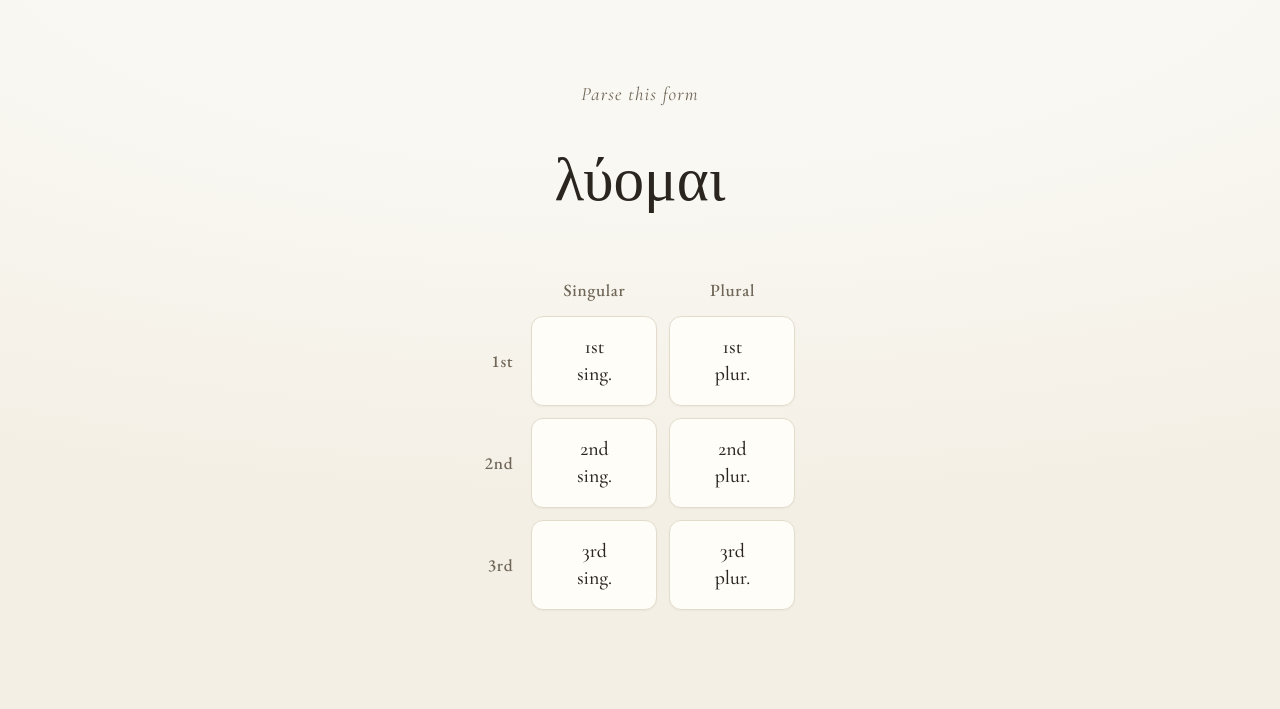
Scenario: PersonNumberParseGame › logs nothing when the answer is right
Click the 1st button with class "cell".
click(594, 361)  # box [532, 316, 658, 406]
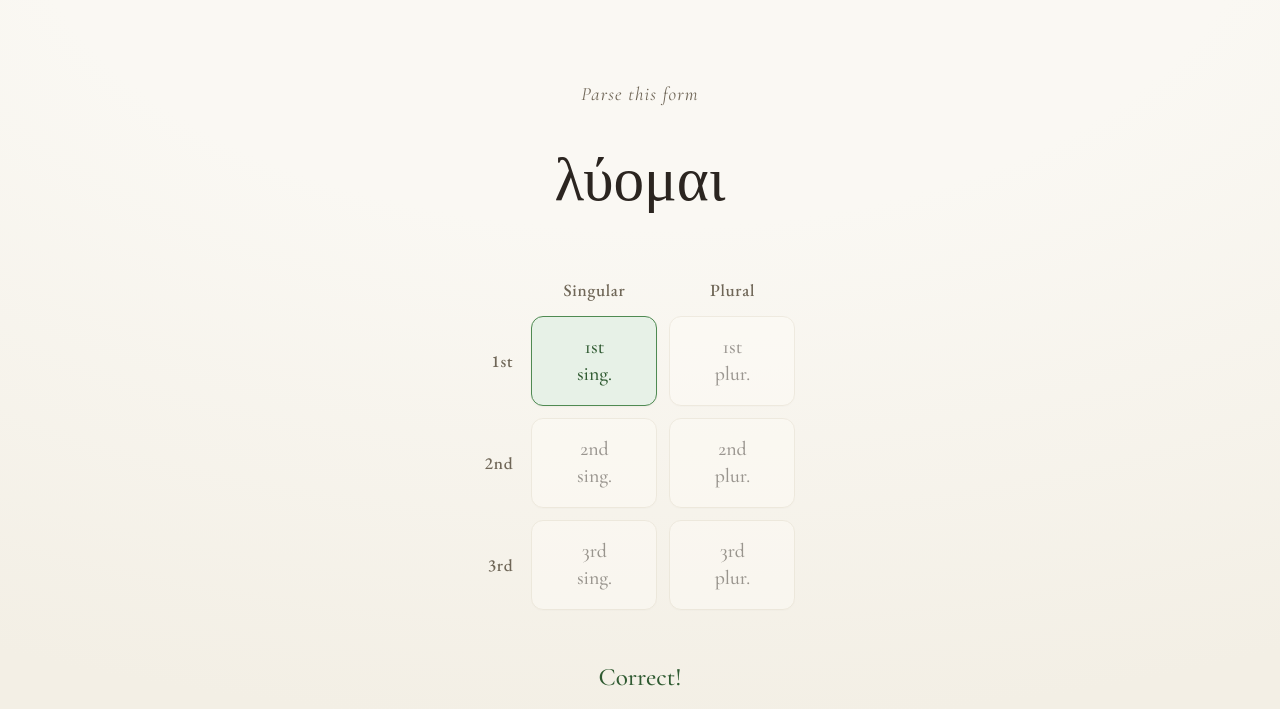
Now the text with class "luo__verdict" reads "Correct!", box [598, 662, 682, 692]
